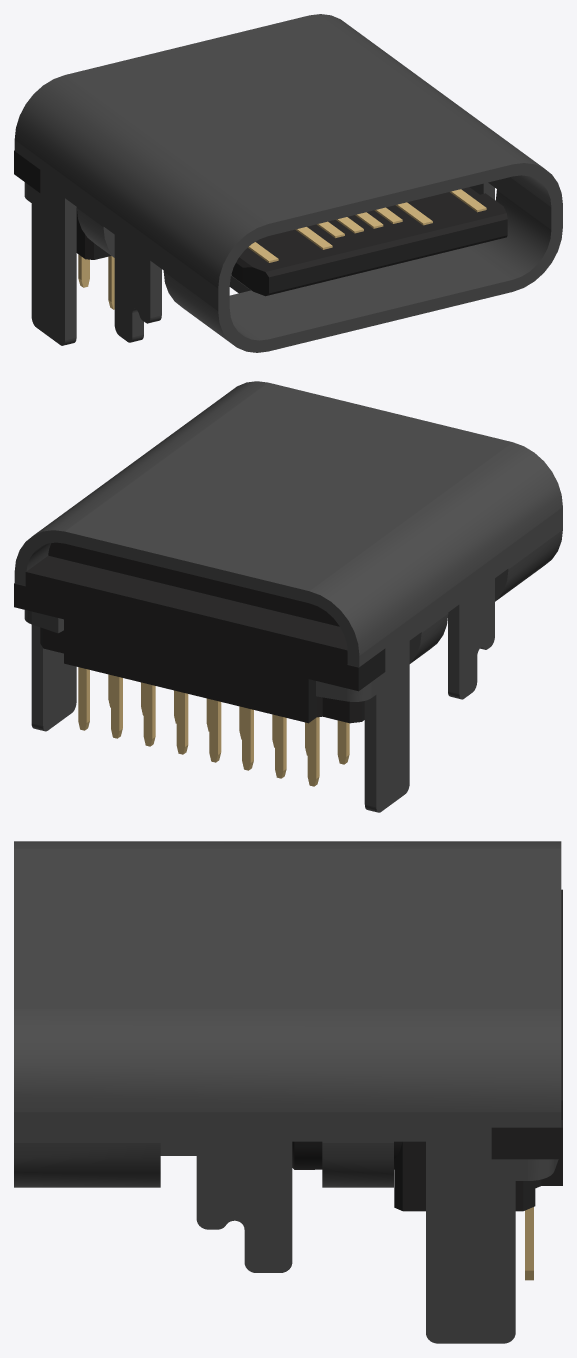
Rendered from kc-usb_c_receptacle_gct_usb4085.glb.
3 views of the same model, one above another, from view 1: azimuth 30°, elevation 25°; view 2: azimuth 150°, elevation 25°; view 3: azimuth 270°, elevation 25° (orthographic). The views are drawn at different scales.
Parts seen in each view (by area): view 1: 0.08333333333333333_0.08333333333333333_0.08333333333333333_, 0_0_0_0, 0.75_0.5_0.25_0.9; view 2: 0.08333333333333333_0.08333333333333333_0.08333333333333333_, 0_0_0_0, 0.75_0.5_0.25_0.9; view 3: 0.08333333333333333_0.08333333333333333_0.08333333333333333_, 0_0_0_0, 0.75_0.5_0.25_0.9.
Part boxes in pixels (bbox=[...]): 0.08333333333333333_0.08333333333333333_0.08333333333333333_: bbox=[14, 14, 562, 352]; 0_0_0_0: bbox=[14, 150, 507, 296]; 0.75_0.5_0.25_0.9: bbox=[78, 189, 486, 309]; 0.08333333333333333_0.08333333333333333_0.08333333333333333_: bbox=[14, 381, 562, 812]; 0_0_0_0: bbox=[14, 542, 385, 723]; 0.75_0.5_0.25_0.9: bbox=[78, 667, 349, 786]; 0.08333333333333333_0.08333333333333333_0.08333333333333333_: bbox=[14, 841, 561, 1343]; 0_0_0_0: bbox=[292, 889, 562, 1211]; 0.75_0.5_0.25_0.9: bbox=[525, 1207, 533, 1280].
Size of the model in its own units: 0.894 by 0.556 by 0.917.
